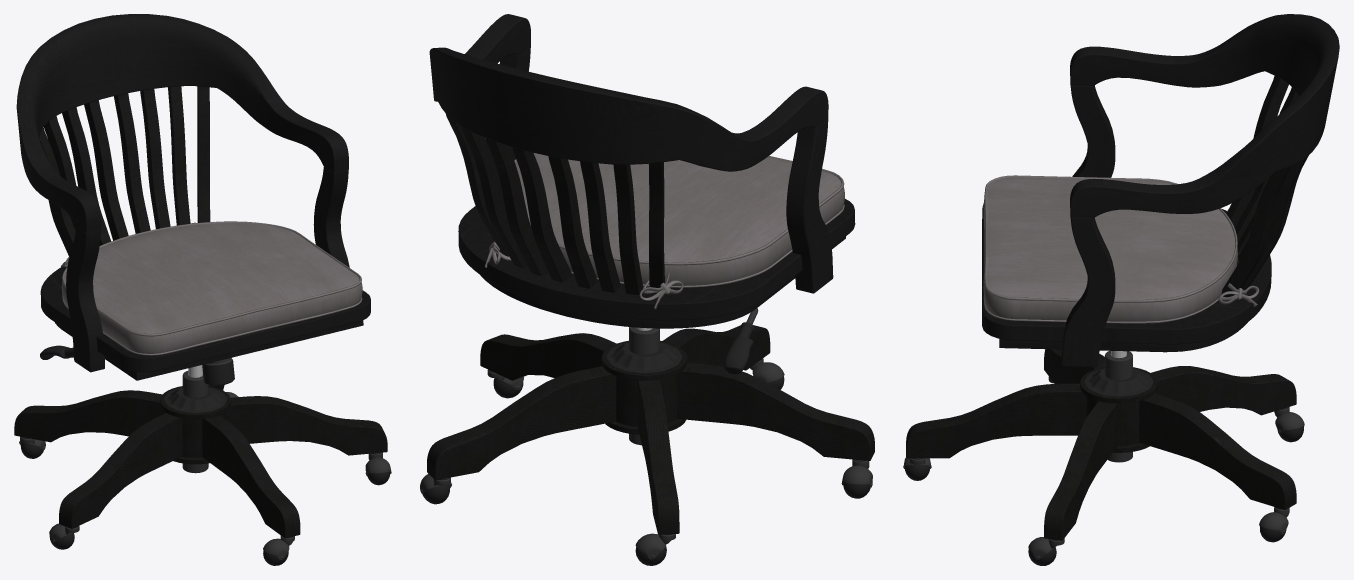
The model's file is office_chair_B07B7HVRTJ.glb.
The picture shows the model from 3 angles, left to right: view 1: azimuth 30°, elevation 25°; view 2: azimuth 150°, elevation 25°; view 3: azimuth 270°, elevation 25°; orthographic projection. The views are drawn at different scales.
Parts seen in each view (by area): view 1: RootNode; view 2: RootNode; view 3: RootNode.
Boxes of the visible parts, x1,y1,x2,y2 form: RootNode: (14,14,391,565); RootNode: (420,14,874,565); RootNode: (903,14,1339,565).
Size of the model in its own units: 0.7505 by 0.8779 by 0.7881.
Materials: 1 (1 with a texture image).
